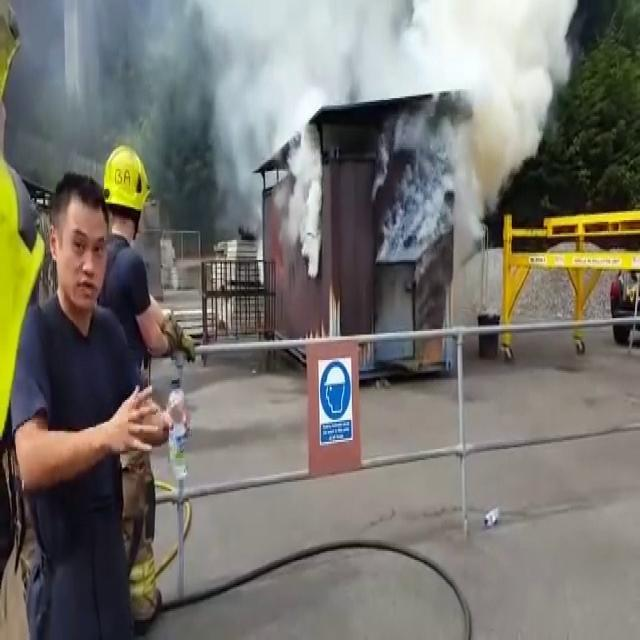Smoke: (242, 0, 564, 102), (428, 102, 542, 205), (271, 118, 335, 245)
